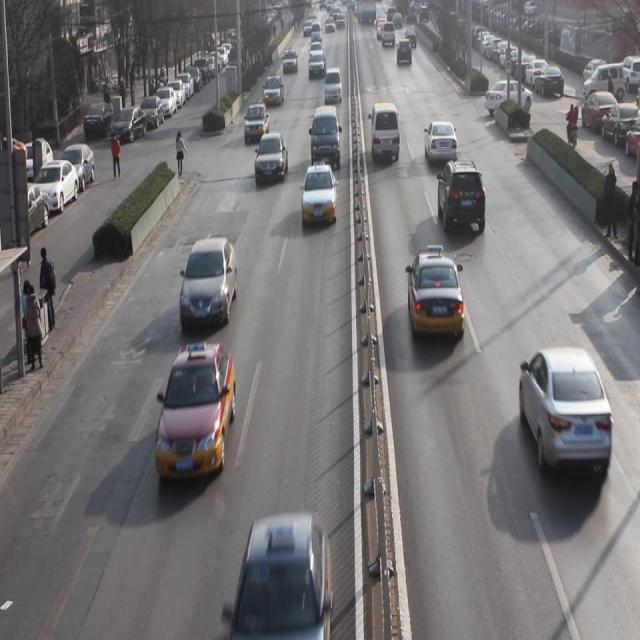car: (518, 342, 612, 485), (233, 518, 333, 640), (154, 343, 237, 481), (408, 247, 464, 347), (178, 238, 238, 326), (436, 158, 486, 235), (300, 164, 338, 228), (255, 131, 289, 184), (425, 119, 458, 165), (242, 101, 270, 142), (262, 73, 286, 108), (308, 50, 327, 80), (282, 48, 299, 75)
truck: (307, 102, 342, 167), (370, 104, 401, 165), (323, 68, 343, 106)
